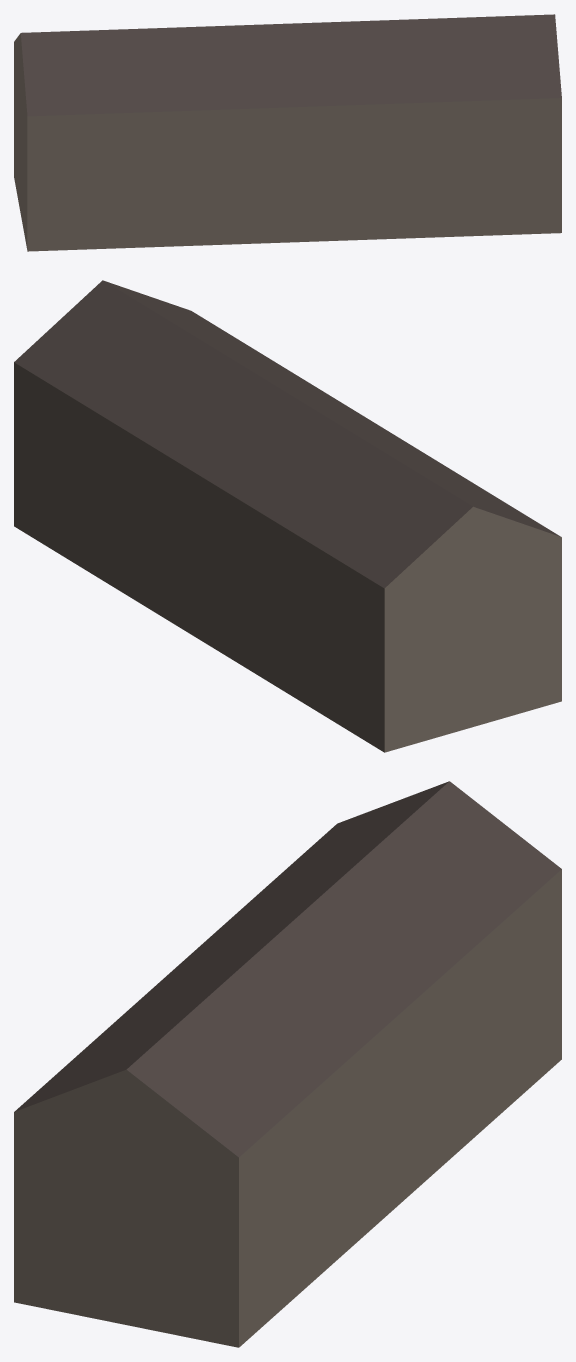
The picture shows the model from 3 angles, top to bottom: view 1: azimuth 30°, elevation 25°; view 2: azimuth 150°, elevation 25°; view 3: azimuth 270°, elevation 25°; orthographic projection. The views are drawn at different scales.
Parts seen in each view (by area): view 1: HP-w859082572; view 2: HP-w859082572; view 3: HP-w859082572.
Boxes of the visible parts, left/top/right/bottom form: HP-w859082572: left=14, top=14, right=561, bottom=251; HP-w859082572: left=14, top=280, right=561, bottom=752; HP-w859082572: left=14, top=781, right=561, bottom=1347.
Size of the model in its own units: 33.88 by 12.09 by 23.49.
